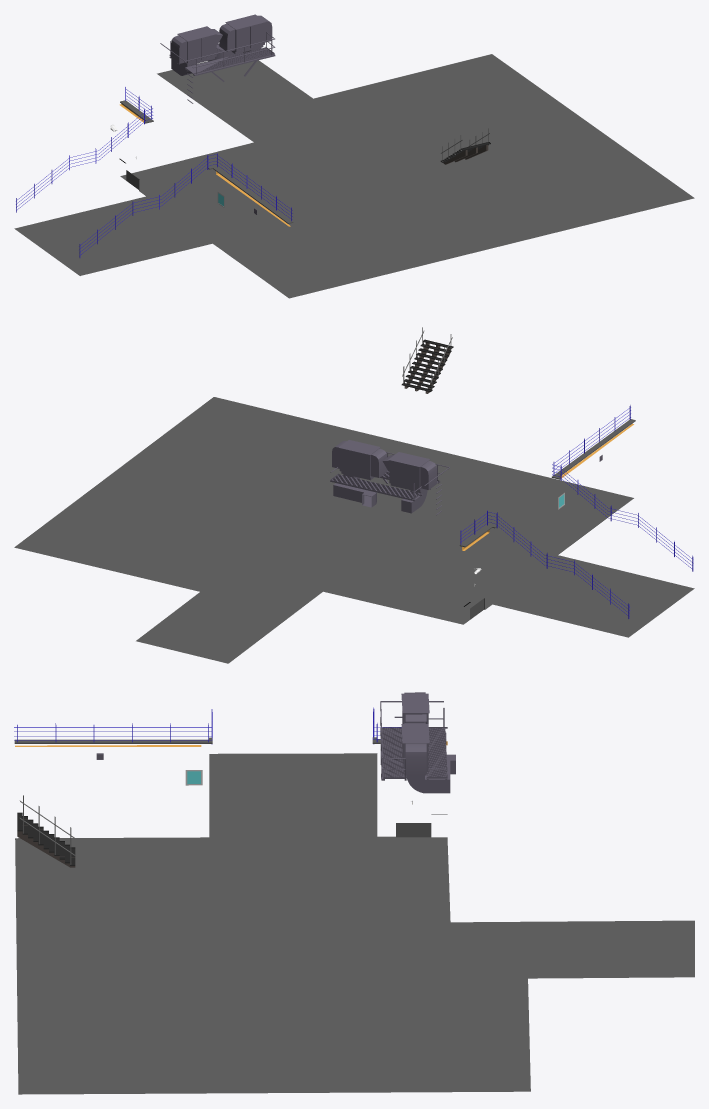
File: Terasa_No_Collision.fbx
The picture shows the model from 3 angles, top to bottom: view 1: azimuth 30°, elevation 25°; view 2: azimuth 150°, elevation 25°; view 3: azimuth 270°, elevation 25°; orthographic projection. The views are drawn at different scales.
Parts seen in each view (by area): view 1: dlzba_spodok, ventilator_big, steny_spodok.059, steny_spodok.019, nav.037; view 2: dlzba_spodok, ventilator_big, steny_spodok.059, nav.037, steny_spodok.019; view 3: dlzba_spodok, ventilator_big, nav.037, steny_spodok.019, steny_spodok.059.
Part boxes in pixels (x1,y1,x2,y2): dlzba_spodok: (14,54,694,298); ventilator_big: (160,14,275,103); steny_spodok.059: (16,87,292,257); steny_spodok.019: (120,100,293,226); nav.037: (440,128,490,164); dlzba_spodok: (14,397,694,663); ventilator_big: (330,440,449,515); steny_spodok.059: (460,405,693,618); nav.037: (401,327,453,393); steny_spodok.019: (459,419,635,547); dlzba_spodok: (15,753,694,1094); ventilator_big: (380,692,455,793); nav.037: (17,795,75,867); steny_spodok.019: (14,737,380,746); steny_spodok.059: (14,707,401,744).
Size of the model in its own units: 3842 by 918 by 3241.
